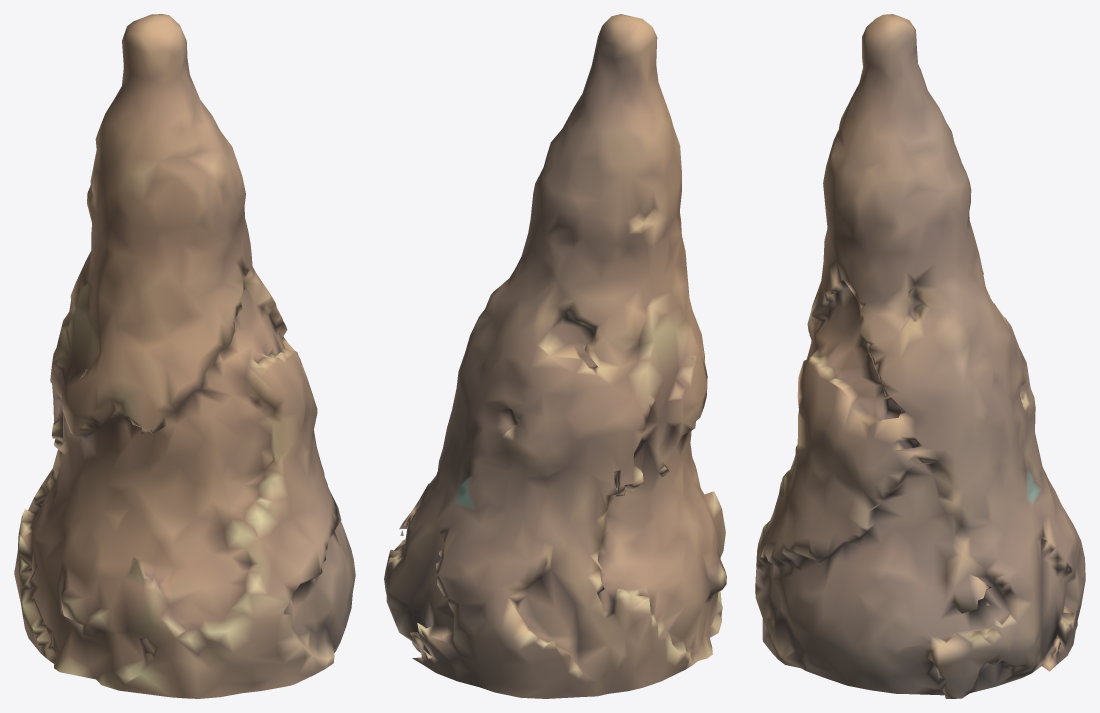
Rendered from env_fr_spire_1.glb.
3 renders of one model, left to right at view 1: azimuth 30°, elevation 25°; view 2: azimuth 150°, elevation 25°; view 3: azimuth 270°, elevation 25°, orthographic. The views are drawn at different scales.
Parts seen in each view (by area): view 1: geometry_0; view 2: geometry_0; view 3: geometry_0.
Part boxes in pixels (left/top/right/bottom): geometry_0: left=14, top=14, right=355, bottom=698; geometry_0: left=384, top=14, right=726, bottom=698; geometry_0: left=755, top=14, right=1085, bottom=698.
Bounding box in the file's own units: 4.91 × 9.98 × 5.01.
